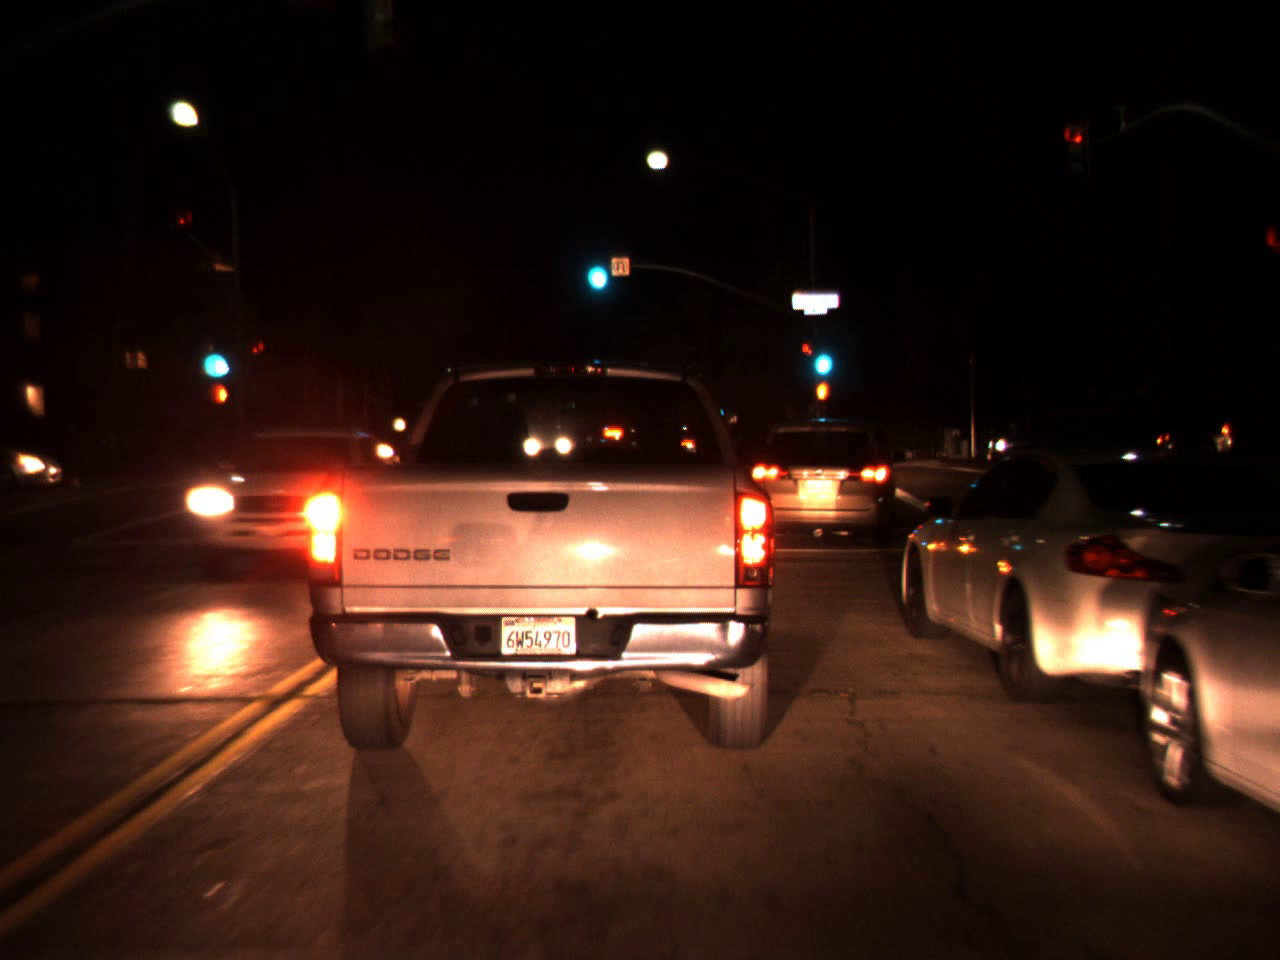go: (196, 323, 230, 386), (579, 238, 611, 298), (808, 326, 836, 383)
